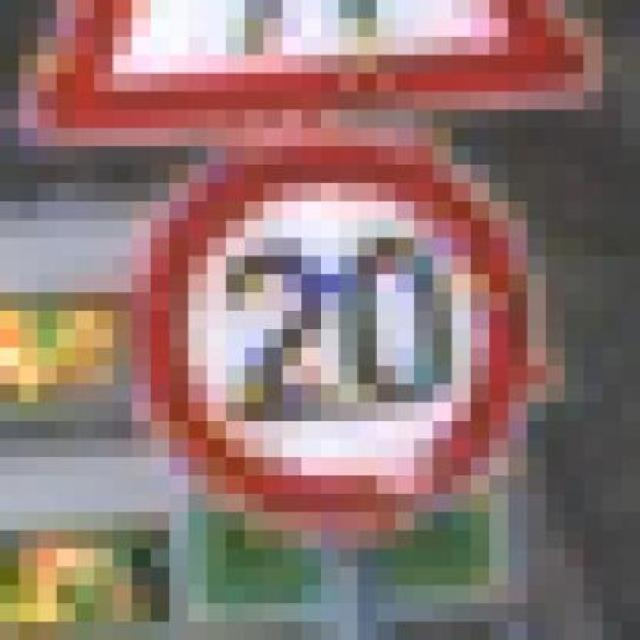forb_speed_over_20: (151, 138, 532, 521)
